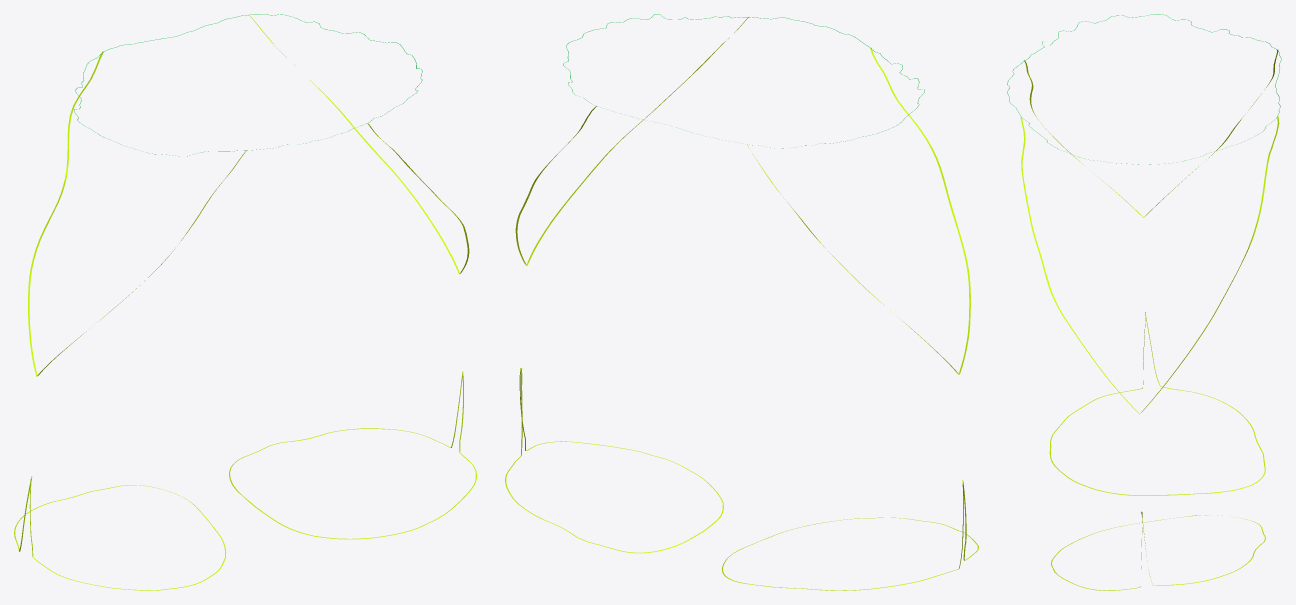
Rendered from tassels-path.glb.
The picture shows the model from 3 angles, left to right: view 1: azimuth 30°, elevation 25°; view 2: azimuth 150°, elevation 25°; view 3: azimuth 270°, elevation 25°; orthographic projection. The views are drawn at different scales.
Parts seen in each view (by area): view 1: tassels_path_bottom_trim, pattern_path_trim; view 2: pattern_path_trim, tassels_path_bottom_trim; view 3: pattern_path_trim, tassels_path_bottom_trim, waist_band_path.
Part boxes in pixels (x1,y1,x2,y2): tassels_path_bottom_trim: (14,371,476,590); pattern_path_trim: (28,15,469,376); pattern_path_trim: (515,17,970,374); tassels_path_bottom_trim: (505,368,978,590); pattern_path_trim: (1020,49,1279,414); tassels_path_bottom_trim: (1049,312,1265,590); waist_band_path: (1007,14,1281,164).
Bounding box in the file's own units: 5.06 × 4.95 × 2.86.
